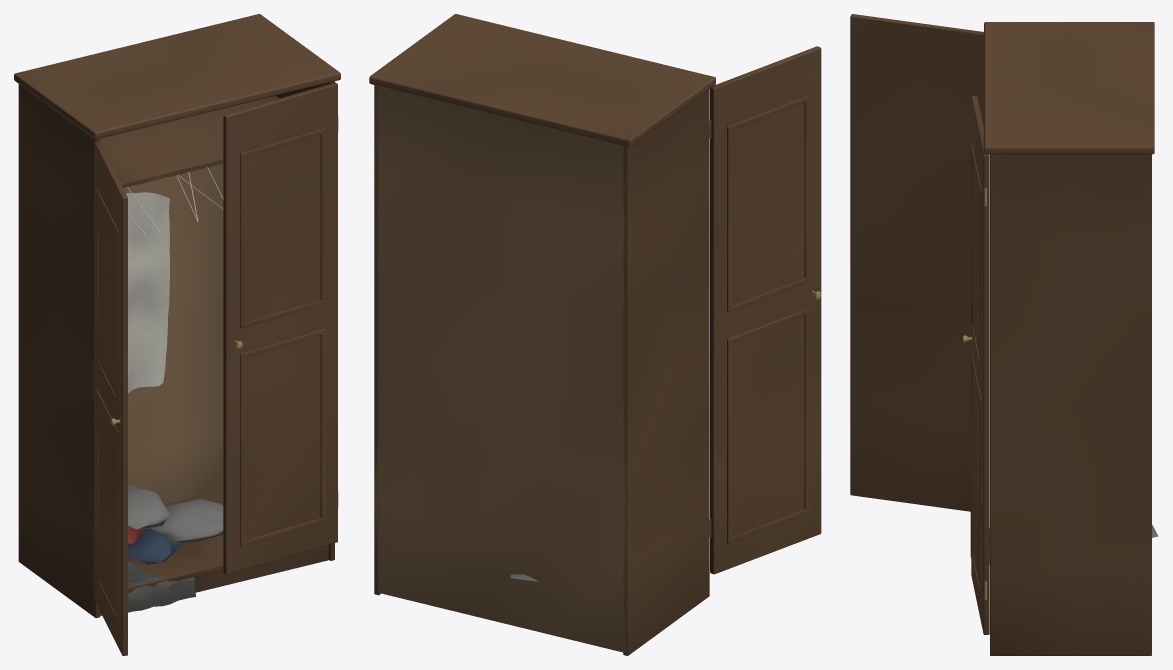
File: wardrobe_open.glb
3 renders of one model, left to right at view 1: azimuth 30°, elevation 25°; view 2: azimuth 150°, elevation 25°; view 3: azimuth 270°, elevation 25°, orthographic. The views are drawn at different scales.
Visible parts, largest first — view 1: wardrobe_open; view 2: wardrobe_open; view 3: wardrobe_open.
Boxes of the visible parts, bbox=[...] form: wardrobe_open: bbox=[14, 14, 340, 655]; wardrobe_open: bbox=[369, 14, 821, 655]; wardrobe_open: bbox=[850, 14, 1158, 655].
Size of the model in its own units: 1.2 by 1.95 by 1.07.
